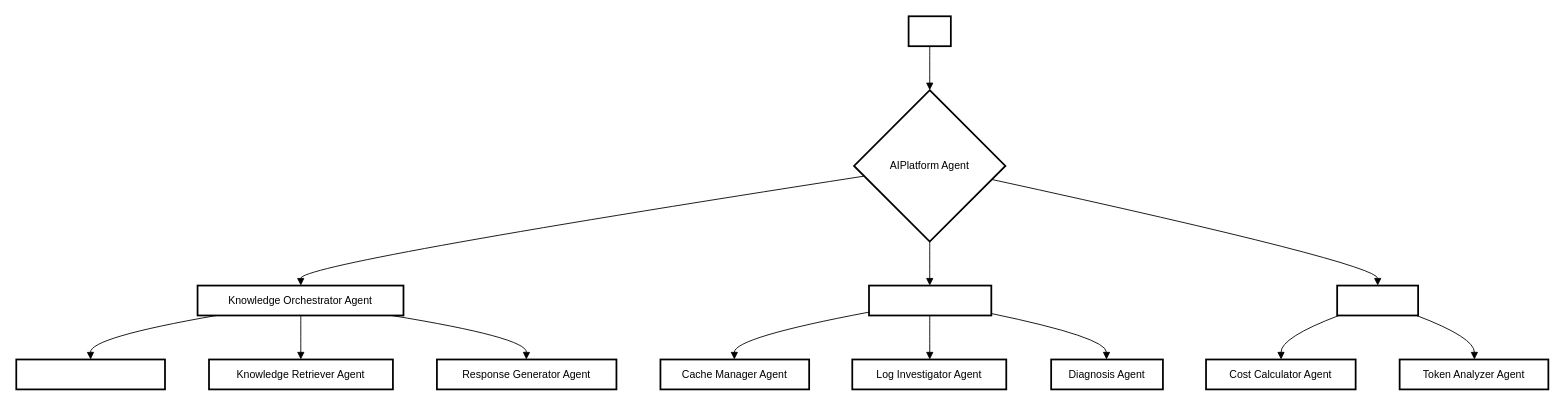
Some shapes in this 1564 by 405 pixel diagram are drawn without their labels. The shapes that lost their labels are listed below. From the top down, each one's centre as x and y in pixels, then its label:
At pixel 929 31: "User".
At pixel 930 300: "Operations Agent".
At pixel 1377 300: "Cost Agent".
At pixel 90 374: "Query Analyzer Agent".
